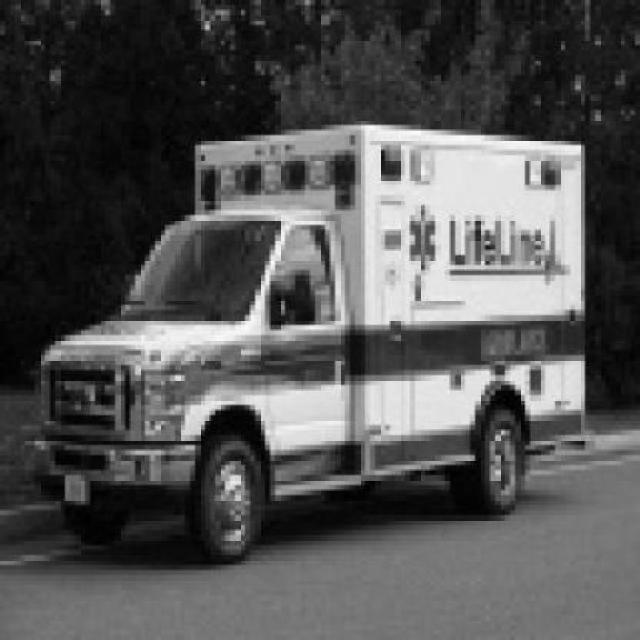Ambulance: (41, 125, 589, 566)
